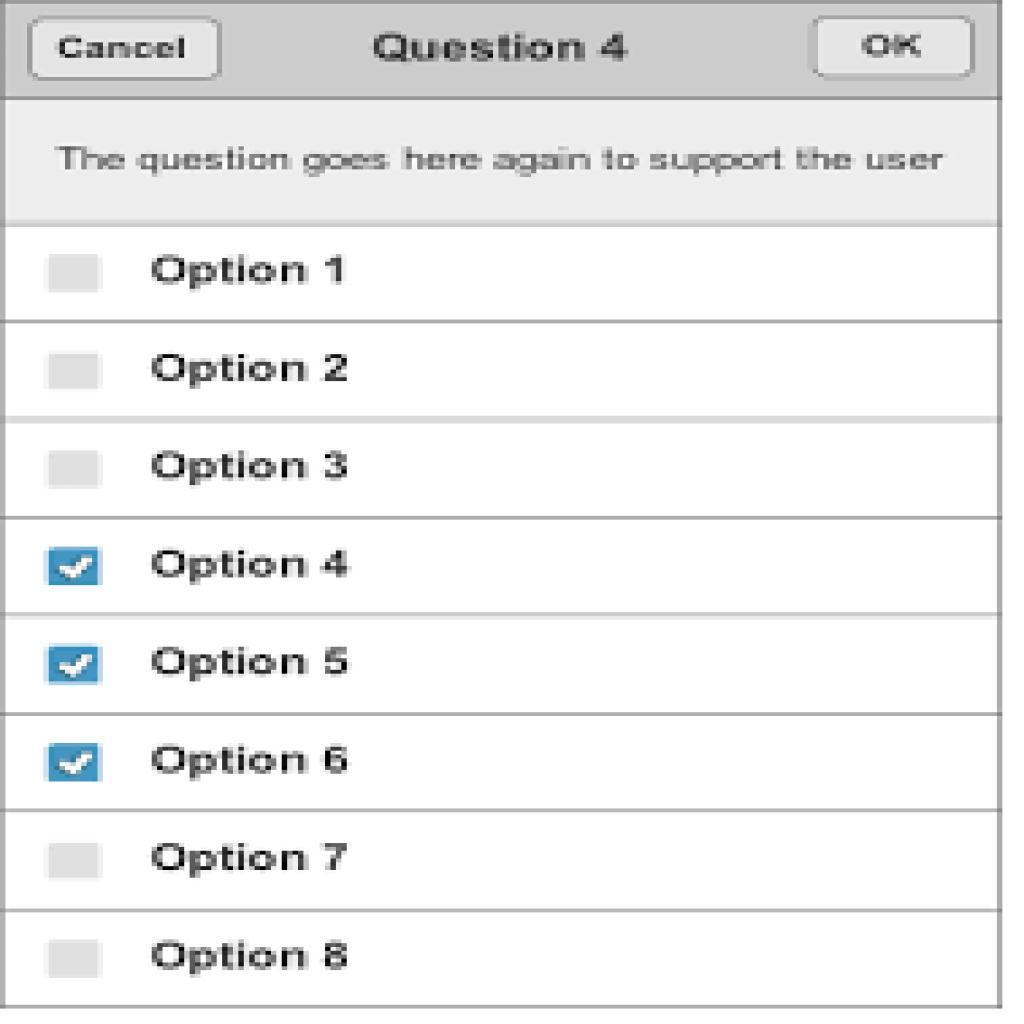button: (28, 20, 220, 79), (812, 15, 976, 79)
checkbox: (49, 450, 103, 493), (46, 354, 102, 393), (49, 255, 104, 294), (48, 939, 99, 980), (48, 548, 100, 588), (51, 745, 105, 783), (48, 647, 101, 684), (49, 843, 101, 880)
label: (138, 831, 348, 889), (142, 341, 354, 397), (142, 445, 360, 497), (141, 740, 358, 792), (150, 934, 349, 990), (141, 542, 355, 594), (145, 251, 353, 300), (141, 641, 351, 686)
